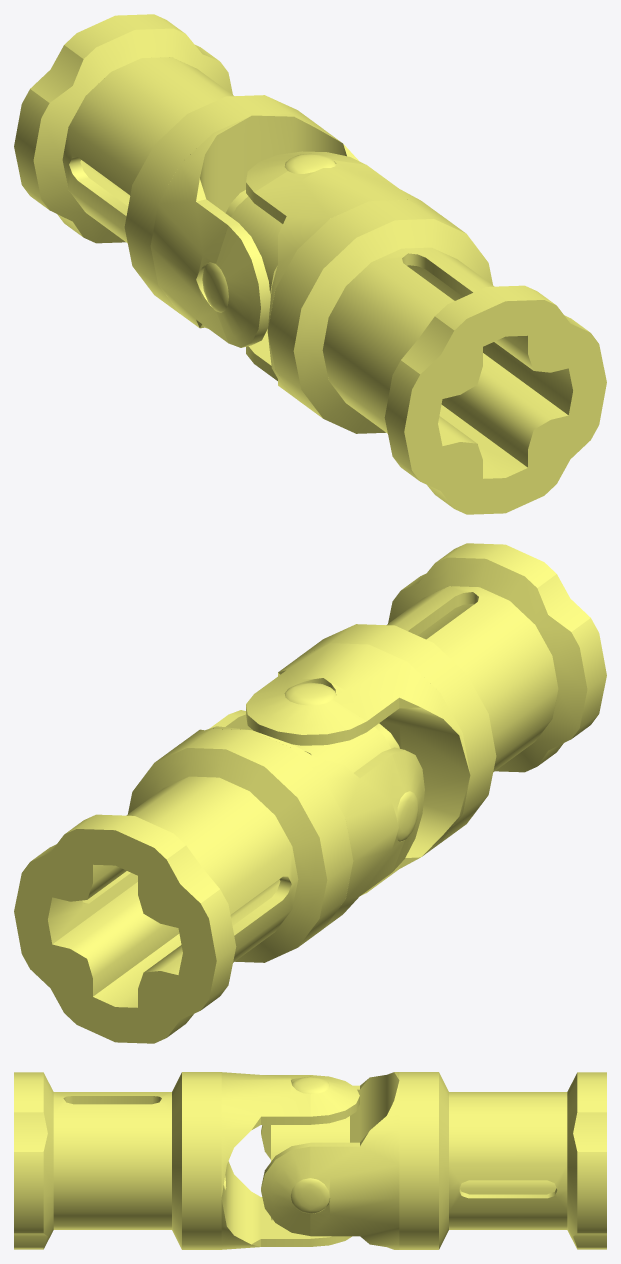
3 renders of one model, top to bottom at view 1: azimuth 30°, elevation 25°; view 2: azimuth 150°, elevation 25°; view 3: azimuth 270°, elevation 25°, orthographic. The views are drawn at different scales.
Parts seen in each view (by area): view 1: 62520.dat (×2), 3326b.dat; view 2: 62520.dat (×2), 3326b.dat; view 3: 62520.dat (×2), 3326b.dat.
Boxes of the visible parts, x1,y1,x2,y2 form: 62520.dat (×2): [14, 14, 606, 514]; 3326b.dat: [202, 153, 335, 329]; 62520.dat (×2): [14, 543, 606, 1043]; 3326b.dat: [284, 682, 418, 841]; 62520.dat (×2): [14, 1072, 606, 1249]; 3326b.dat: [271, 1076, 349, 1220].
Size of the model in its own units: 0.0072 by 0.0072 by 0.024.
